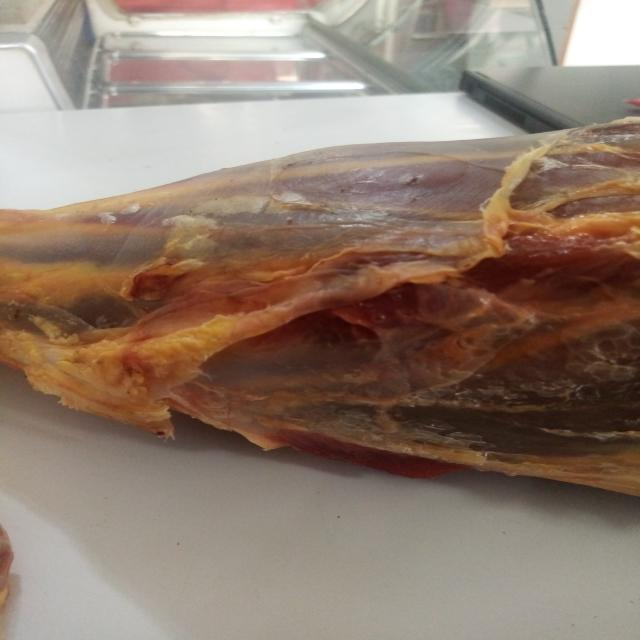Beef: (7, 103, 640, 506)
